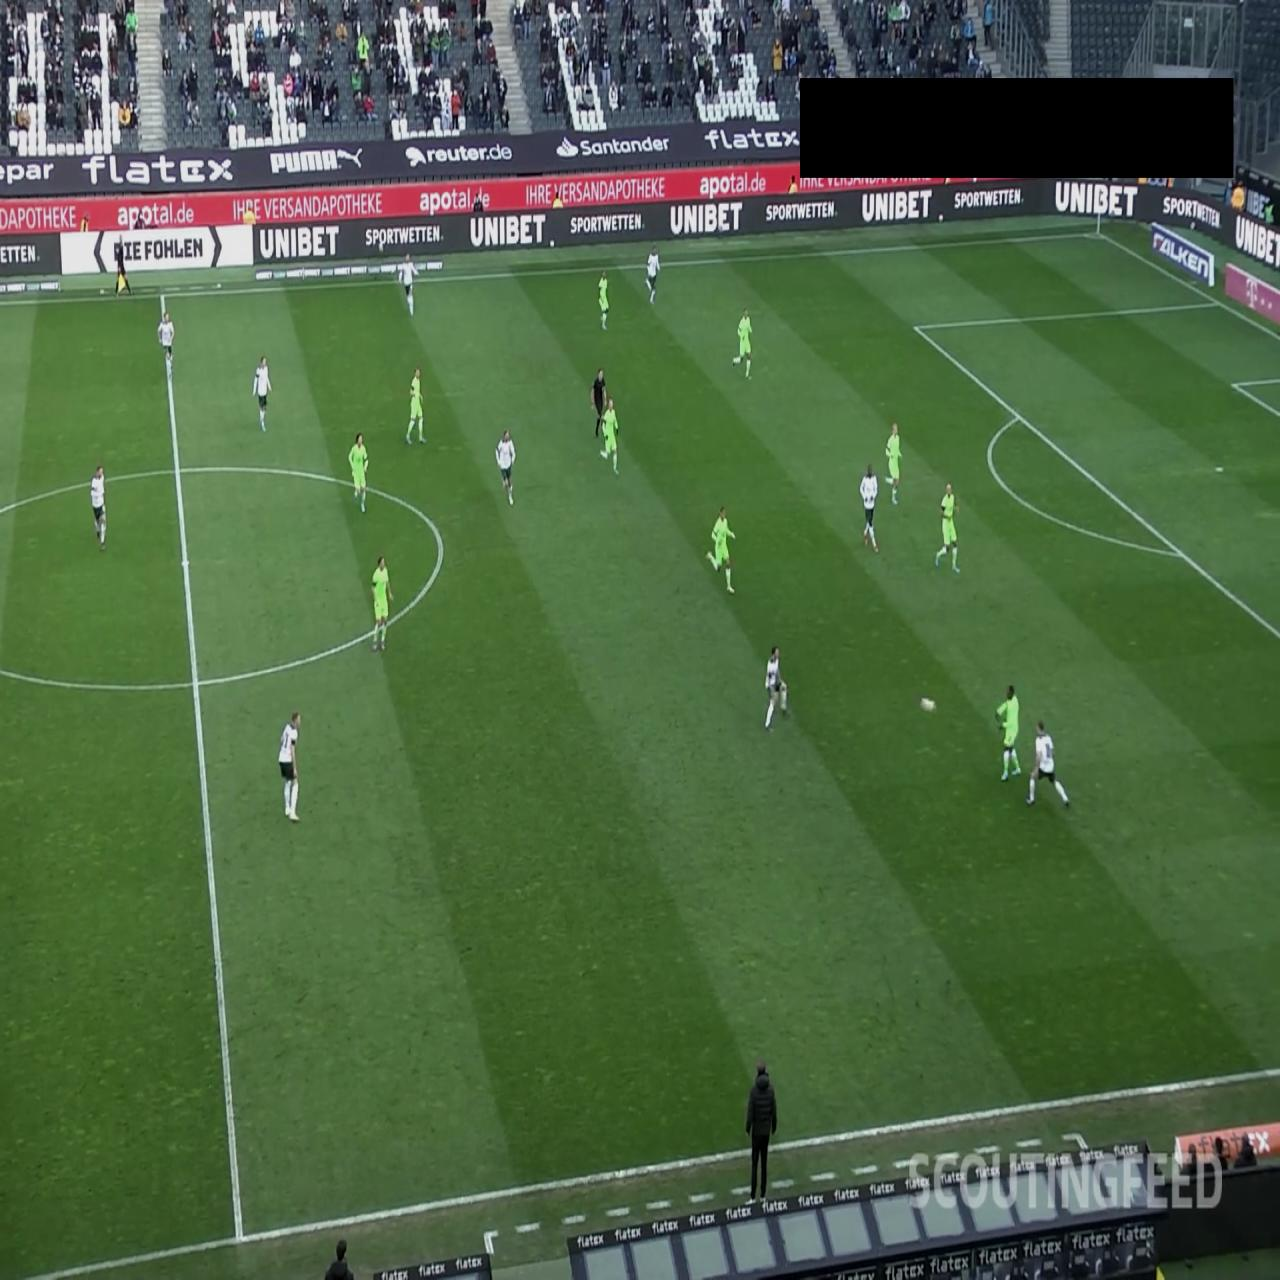ball: (920, 697, 936, 712)
player: (1025, 718, 1071, 808), (278, 710, 301, 821), (996, 684, 1021, 781), (934, 481, 960, 574), (709, 505, 736, 594), (370, 556, 392, 654), (764, 645, 787, 731), (860, 461, 880, 552), (405, 365, 427, 446), (495, 428, 516, 506), (348, 431, 368, 512), (252, 354, 272, 432), (885, 421, 903, 506), (601, 396, 620, 474), (398, 249, 420, 315), (734, 308, 753, 381), (90, 464, 106, 548), (157, 309, 175, 369), (645, 247, 660, 304), (597, 270, 610, 331)
referee: (592, 368, 608, 438), (114, 238, 132, 298)
